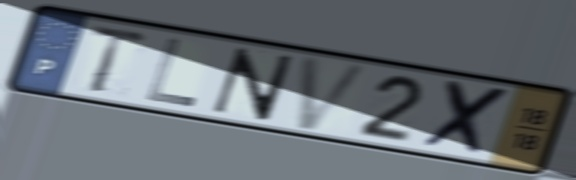2: (359, 73, 429, 143)
L: (142, 35, 199, 110)
N: (207, 45, 299, 123)
T: (85, 23, 154, 95)
V: (292, 53, 376, 134)
X: (418, 77, 516, 161)
